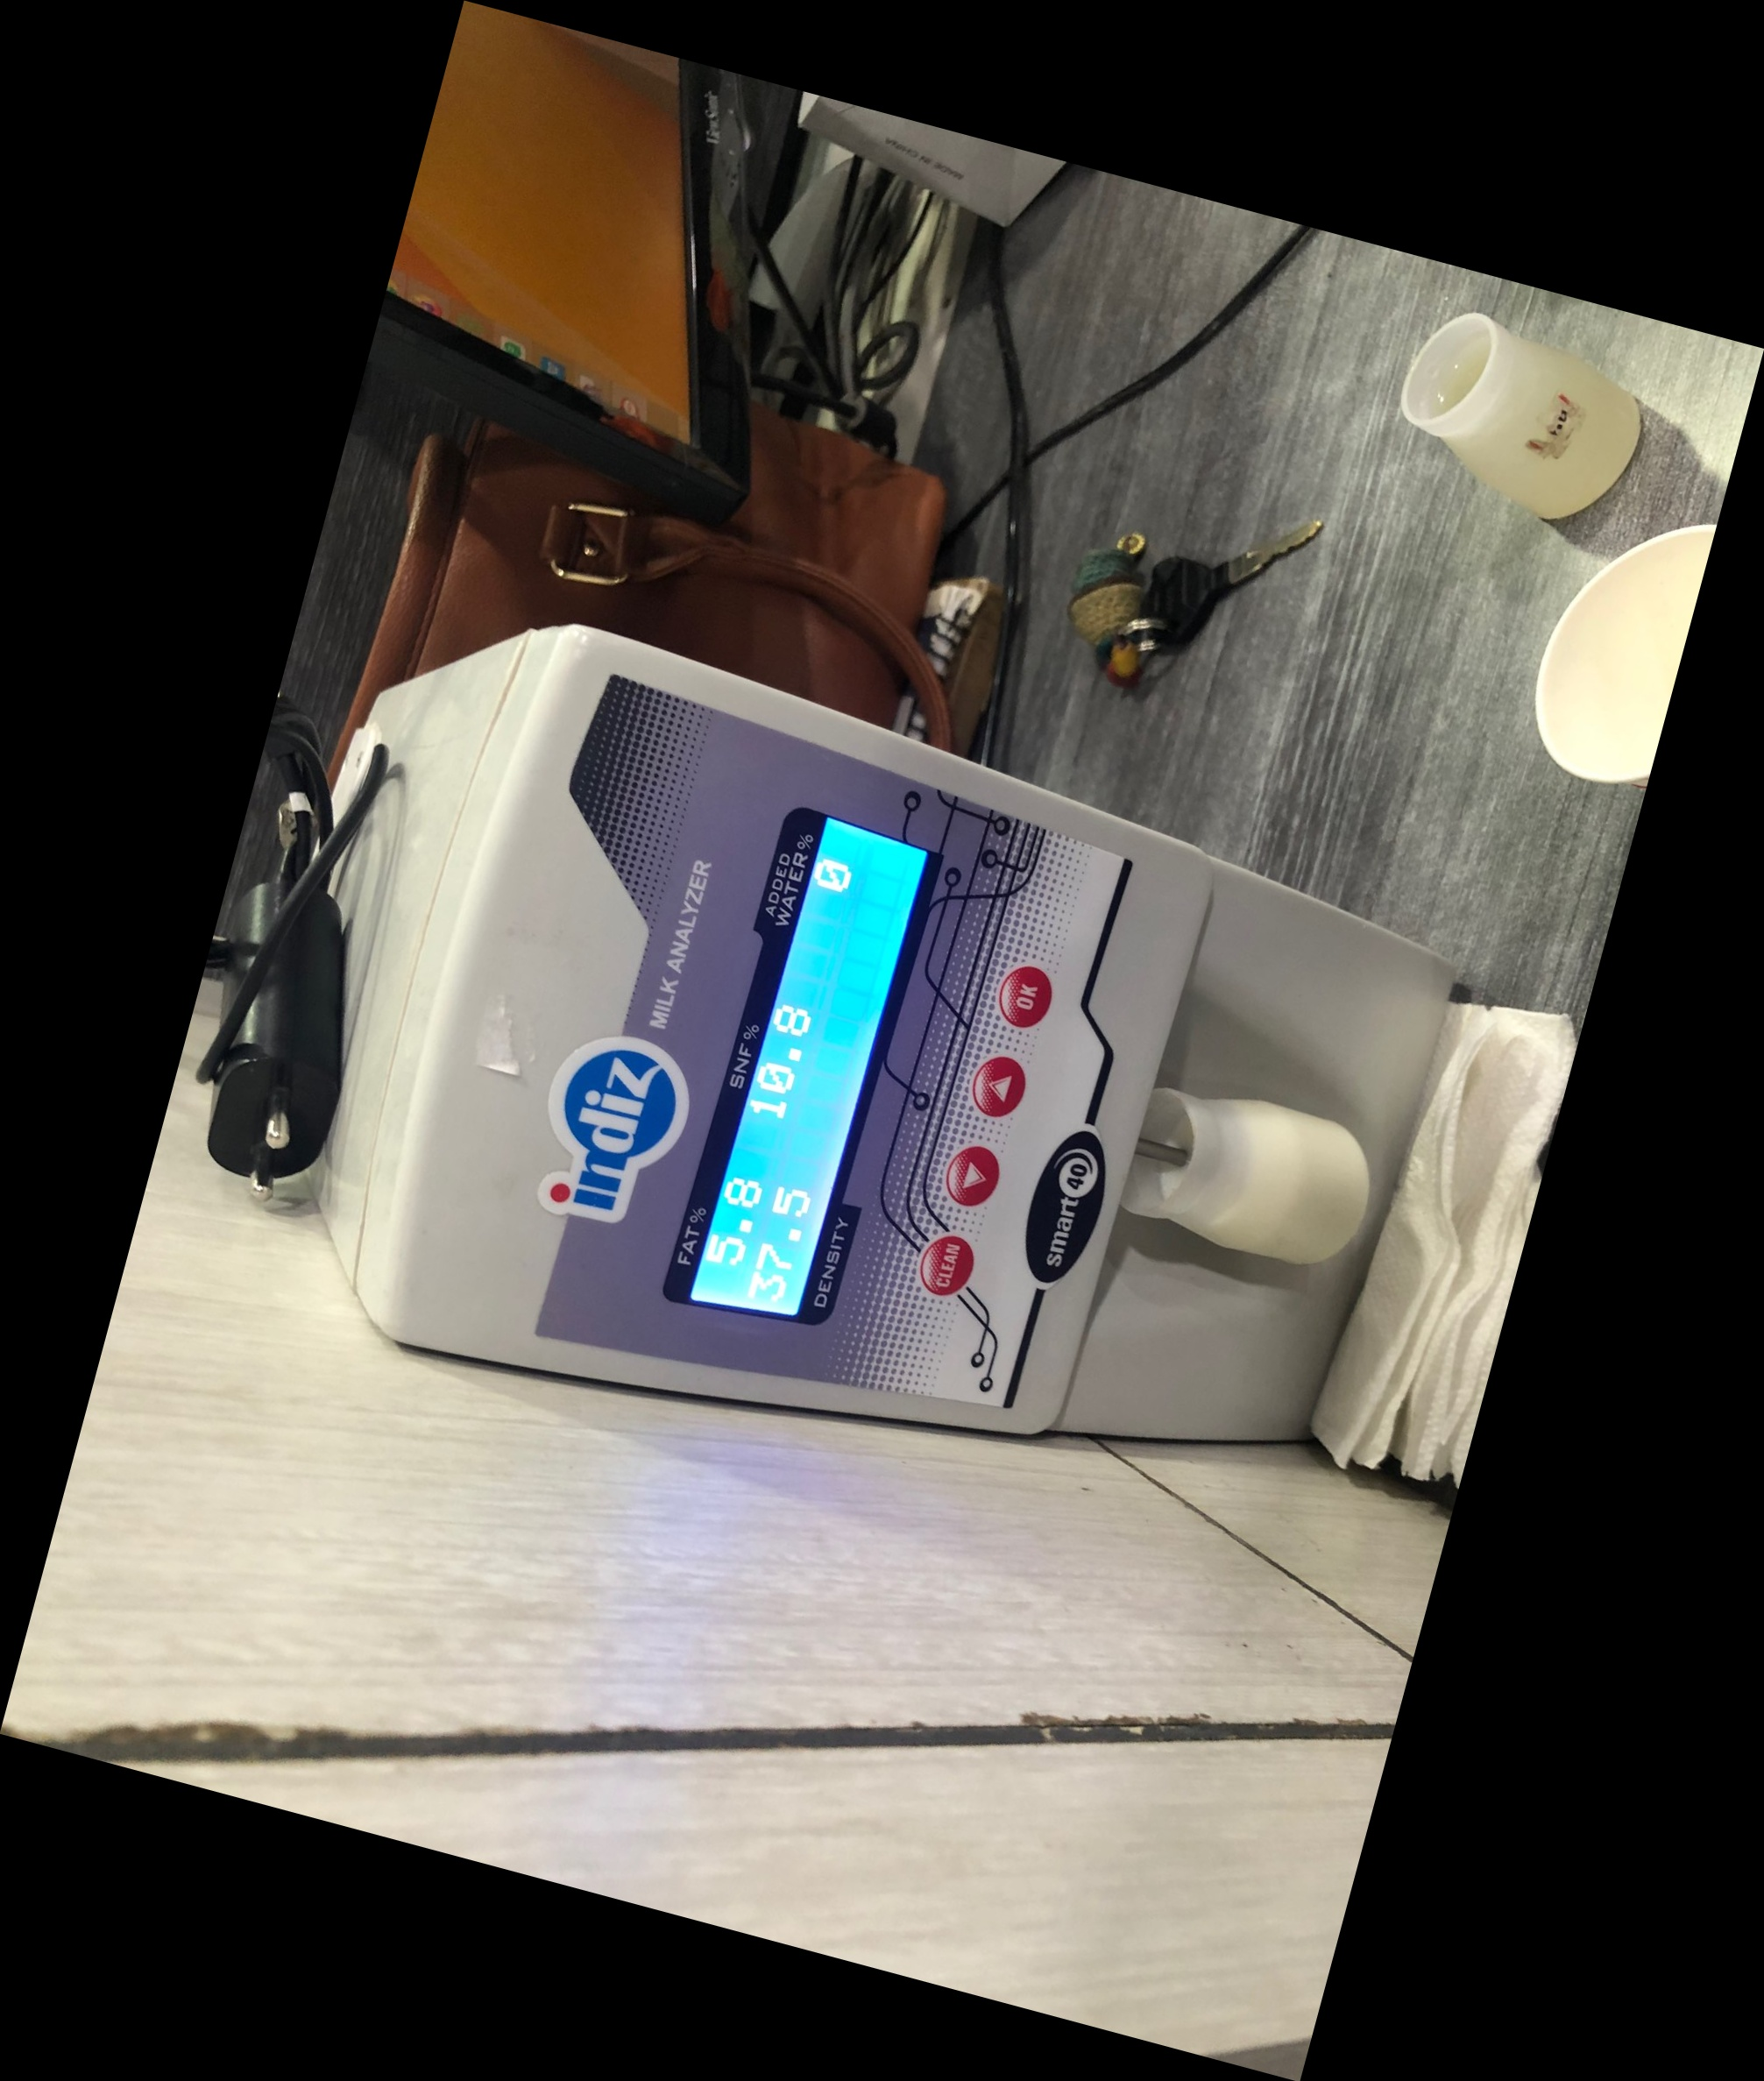lcd: (656, 796, 934, 1363)
